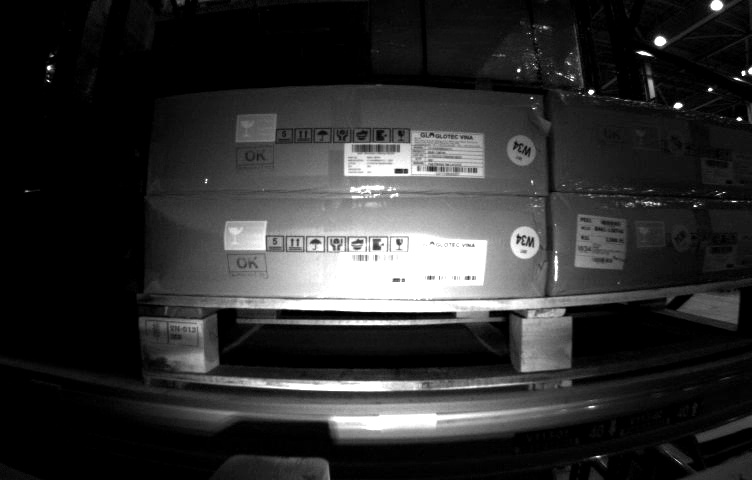True Barcode: (577, 214, 628, 270)
